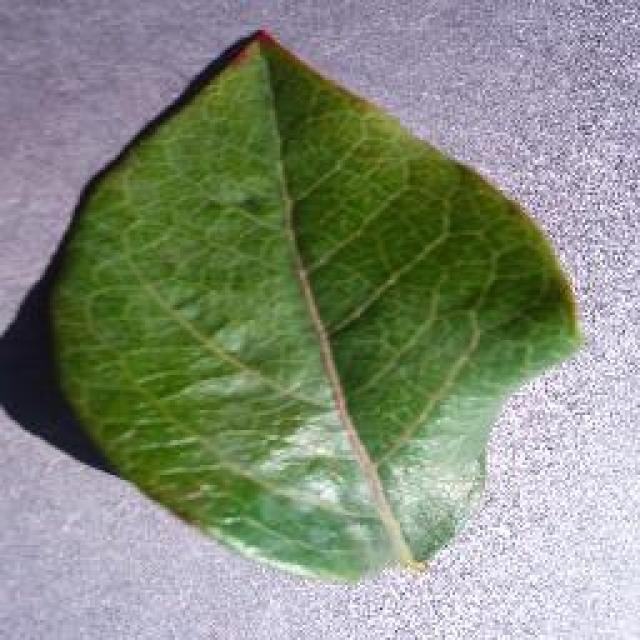Blu_healthy: (92, 99, 520, 495)
